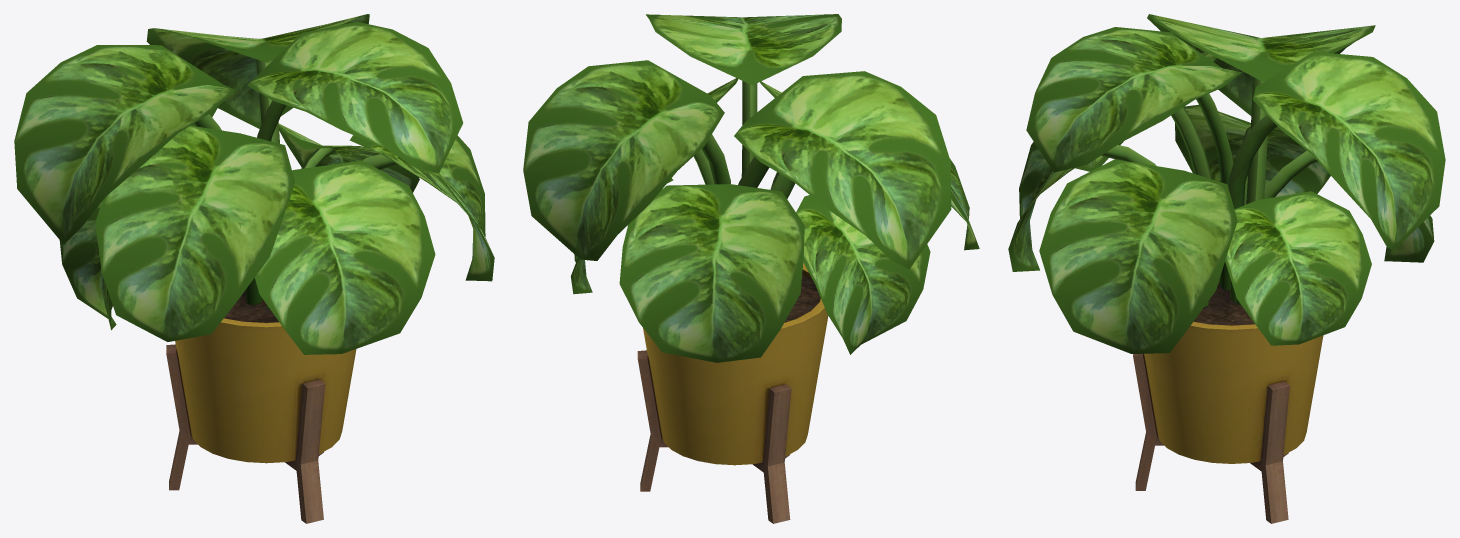
File: planta.fbx
3 renders of one model, left to right at view 1: azimuth 30°, elevation 25°; view 2: azimuth 150°, elevation 25°; view 3: azimuth 270°, elevation 25°, orthographic. The views are drawn at different scales.
Parts seen in each view (by area): view 1: s4studio_mesh_1; view 2: s4studio_mesh_1; view 3: s4studio_mesh_1.
Boxes of the visible parts, bbox=[...] form: s4studio_mesh_1: bbox=[14, 14, 494, 523]; s4studio_mesh_1: bbox=[523, 14, 979, 523]; s4studio_mesh_1: bbox=[1008, 14, 1445, 523].
Bounding box in the file's own units: 108 × 114 × 103.
1 material, 1 textured.
